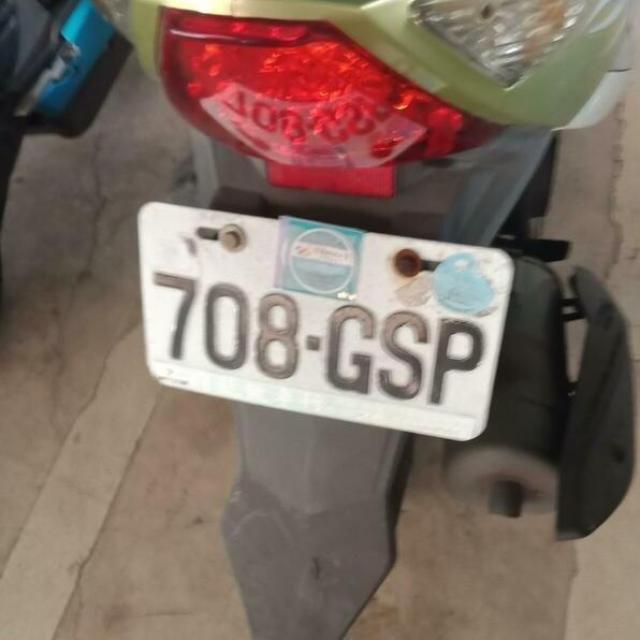W: (112, 172, 532, 466)
